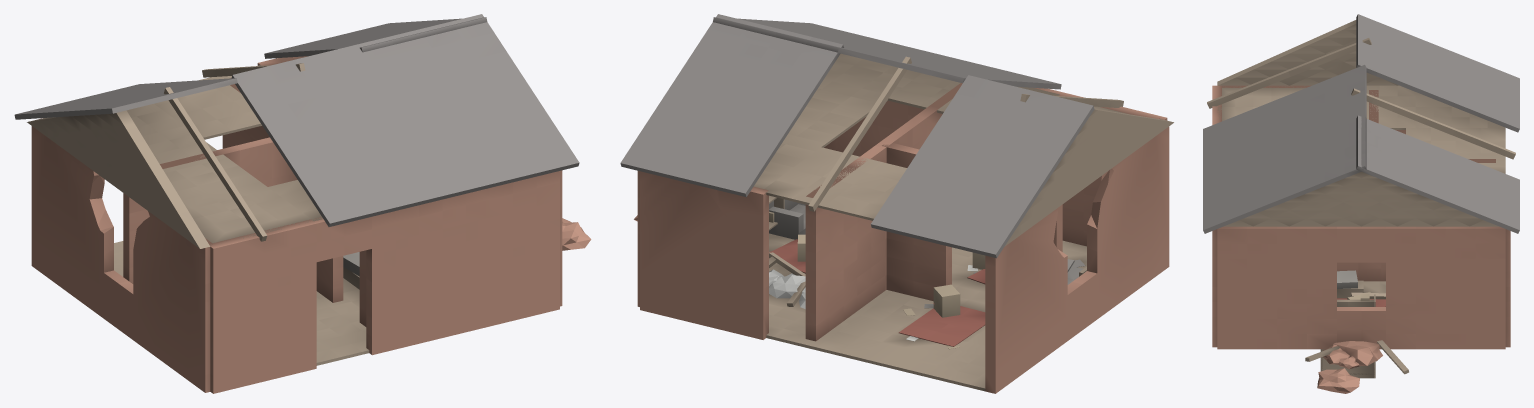
File: casa_r13.glb
3 renders of one model, left to right at view 1: azimuth 30°, elevation 25°; view 2: azimuth 150°, elevation 25°; view 3: azimuth 270°, elevation 25°, orthographic. The views are drawn at different scales.
Visible parts, largest first — view 1: telhado, ext0_0, ext0_3, forro, telhado_oitao0, int_1, chao, int_0, telhado_vigas, entulho_fora, tv_sala; view 2: telhado, ext0_3, ext0_2, forro, chao, int_0, telhado_oitao0, int_1, ext0_0, telhado_vigas, fundo_tapete, entulho (+3 smaller); view 3: telhado, ext0_1, telhado_oitao2, forro, telhado_oitao0, telhado_vigas, entulho_fora, ext0_0, estante_sala1, int_0, ext0_2, tv_sala.
Boxes of the visible parts, x1,y1,x2,y2 form: telhado: [14, 14, 579, 226]; ext0_0: [209, 171, 559, 393]; ext0_3: [31, 118, 212, 392]; forro: [42, 57, 322, 243]; telhado_oitao0: [27, 110, 209, 248]; int_1: [123, 137, 297, 283]; chao: [114, 241, 369, 365]; int_0: [222, 78, 366, 326]; telhado_vigas: [164, 63, 305, 241]; entulho_fora: [562, 218, 591, 250]; tv_sala: [343, 252, 359, 289]; telhado: [620, 14, 1094, 258]; ext0_3: [985, 118, 1169, 393]; ext0_2: [640, 171, 768, 339]; forro: [754, 53, 1128, 220]; chao: [766, 233, 1086, 391]; int_0: [805, 83, 962, 341]; telhado_oitao0: [1004, 108, 1173, 246]; int_1: [882, 143, 1062, 301]; ext0_0: [824, 88, 1167, 246]; telhado_vigas: [808, 56, 1123, 211]; fundo_tapete: [898, 306, 985, 346]; entulho: [769, 252, 805, 309]; telhado: [1203, 14, 1519, 233]; ext0_1: [1217, 226, 1505, 349]; telhado_oitao2: [1224, 172, 1498, 226]; forro: [1217, 85, 1505, 173]; telhado_oitao0: [1217, 20, 1398, 85]; telhado_vigas: [1207, 38, 1515, 159]; entulho_fora: [1305, 340, 1408, 393]; ext0_0: [1212, 85, 1221, 347]; estante_sala1: [1320, 293, 1375, 378]; int_0: [1337, 159, 1495, 281]; ext0_2: [1505, 229, 1510, 347]; tv_sala: [1337, 270, 1363, 298].
Size of what is drawn, in the model's own units: 9.97 by 5.55 by 7.14.
